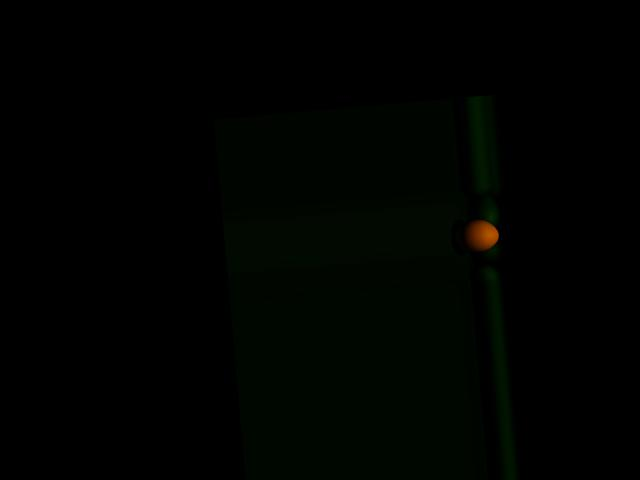egg: (453, 217, 499, 254)
